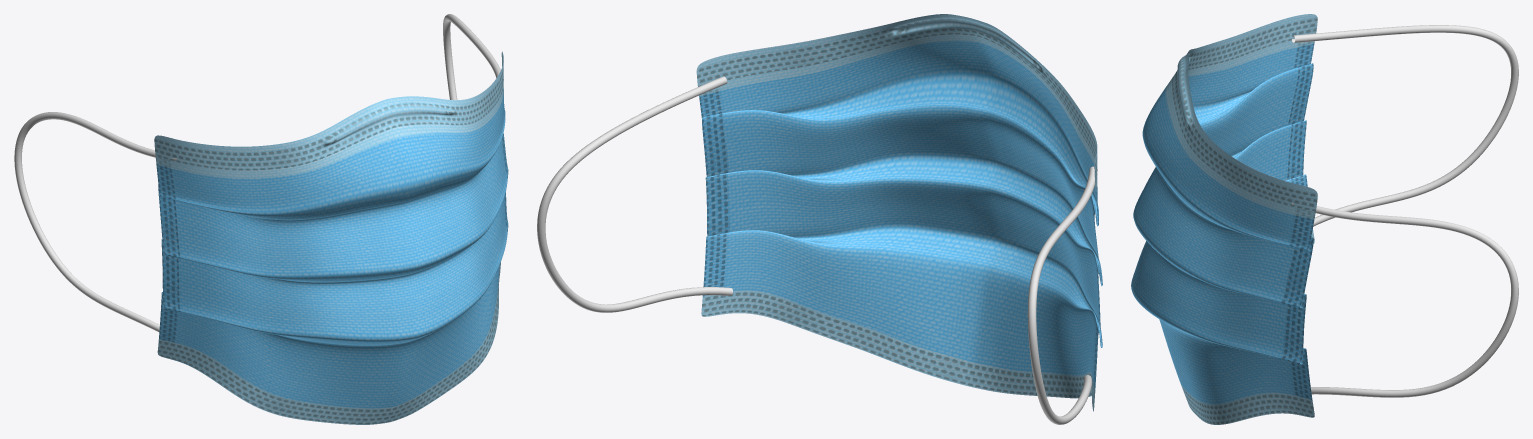
Rendered from FaceMask_Surgical.fbx.
3 renders of one model, left to right at view 1: azimuth 30°, elevation 25°; view 2: azimuth 150°, elevation 25°; view 3: azimuth 270°, elevation 25°, orthographic. The views are drawn at different scales.
Visible parts, largest first — view 1: pPlane2, NurbsPath; view 2: pPlane2, NurbsPath; view 3: pPlane2, NurbsPath.
Boxes of the visible parts, bbox=[...] form: pPlane2: bbox=[154, 51, 508, 424]; NurbsPath: bbox=[14, 14, 503, 331]; pPlane2: bbox=[696, 14, 1102, 411]; NurbsPath: bbox=[537, 76, 1097, 424]; pPlane2: bbox=[1131, 14, 1317, 424]; NurbsPath: bbox=[1291, 25, 1518, 397].
Bounding box in the file's own units: 107 × 75.65 × 79.13.
2 materials, 1 textured.
